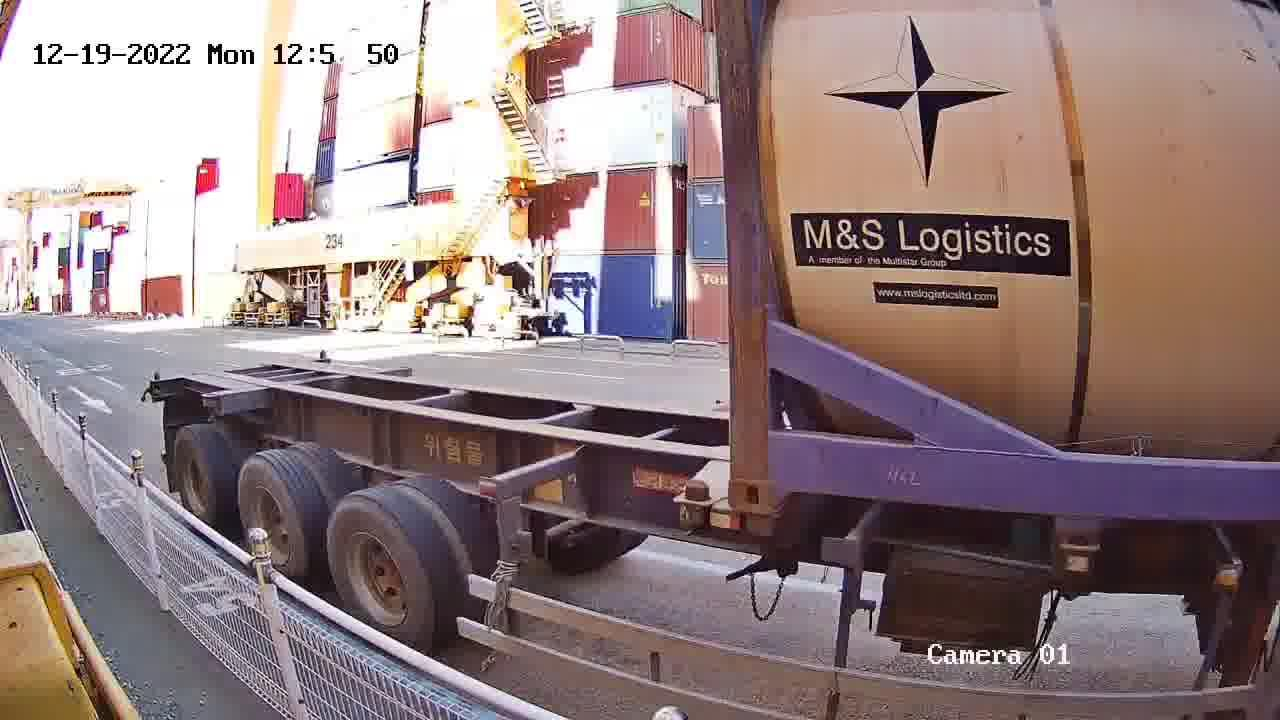Cone: (674, 478, 711, 538), (734, 513, 781, 541)
Hole_L: (729, 435, 815, 515)
Tire: (327, 501, 432, 640), (236, 459, 303, 564), (175, 427, 219, 522)
